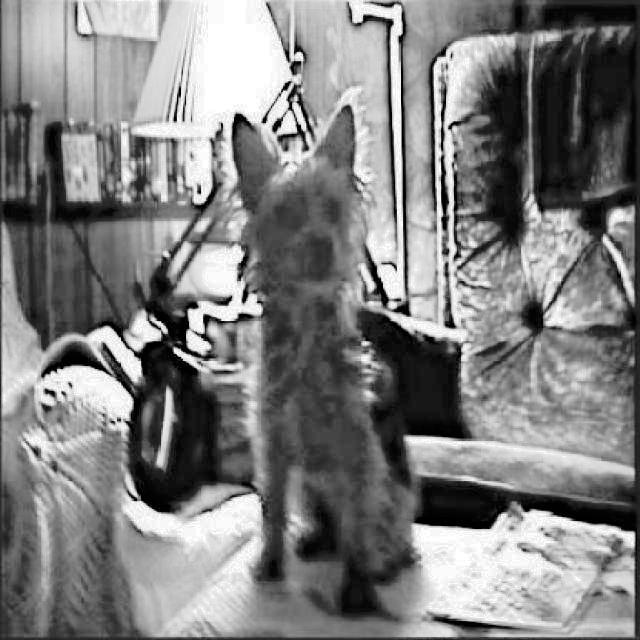Dog: (227, 103, 426, 606)
